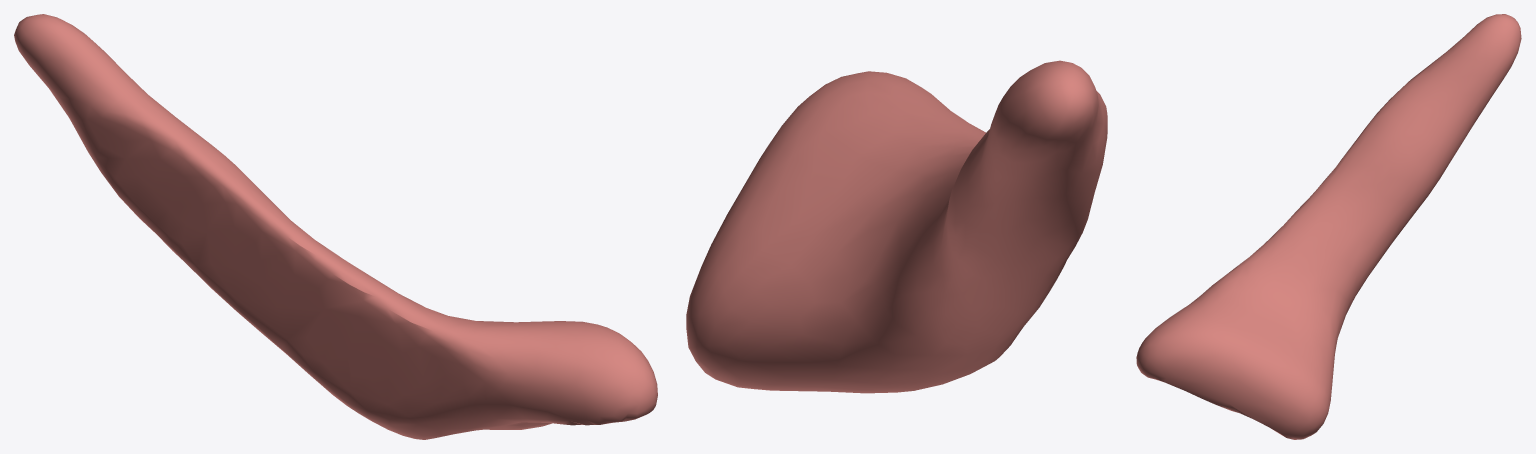
The model's file is fma46728_mm1252m.glb.
3 renders of one model, left to right at view 1: azimuth 30°, elevation 25°; view 2: azimuth 150°, elevation 25°; view 3: azimuth 270°, elevation 25°, orthographic. The views are drawn at different scales.
Visible parts, largest first — view 1: FMA46728_MM1252M; view 2: FMA46728_MM1252M; view 3: FMA46728_MM1252M.
Part boxes in pixels (box(x1,y1,x2,y2)): FMA46728_MM1252M: box(14, 14, 657, 439); FMA46728_MM1252M: box(686, 60, 1107, 393); FMA46728_MM1252M: box(1136, 14, 1521, 439).
Bounding box in the file's own units: 0.029 × 0.0267 × 0.0318.
